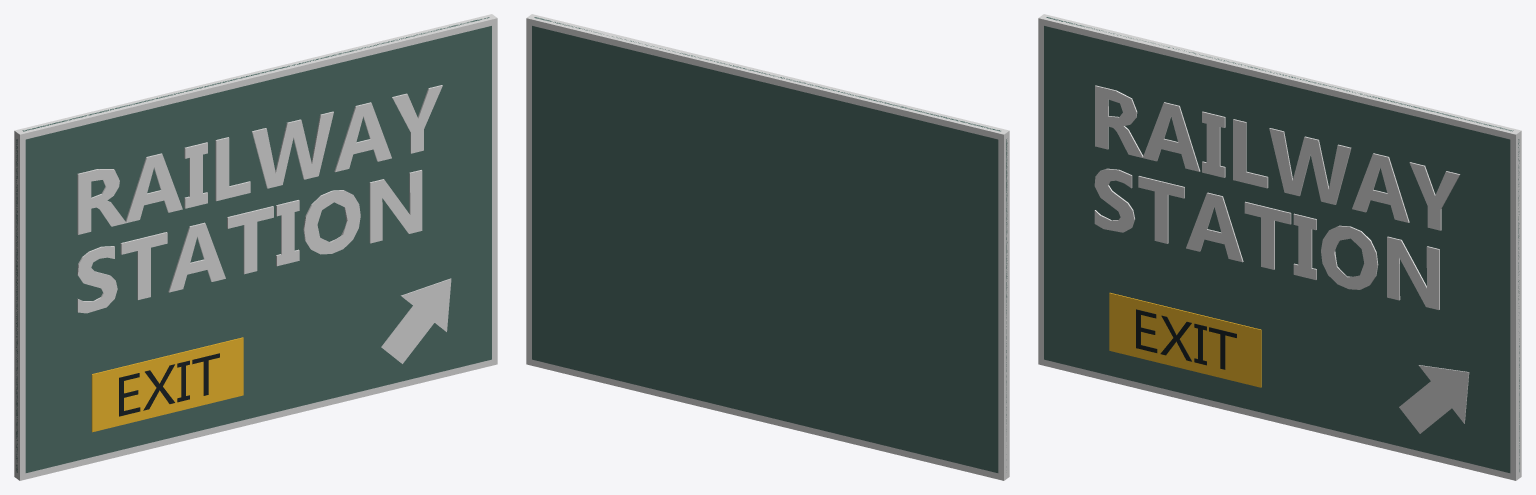
File: SM_FloorProps_RoadSign_39.fbx
3 renders of one model, left to right at view 1: azimuth 30°, elevation 25°; view 2: azimuth 150°, elevation 25°; view 3: azimuth 330°, elevation 25°, orthographic.
Visible parts, largest first — view 1: SM_FloorProps_RoadSign_39; view 2: SM_FloorProps_RoadSign_39; view 3: SM_FloorProps_RoadSign_39.
Boxes of the visible parts, x1,y1,x2,y2 form: SM_FloorProps_RoadSign_39: [14, 14, 497, 480]; SM_FloorProps_RoadSign_39: [526, 14, 1009, 480]; SM_FloorProps_RoadSign_39: [1038, 14, 1521, 480].
Bounding box in the file's own units: 2.33 × 1.61 × 0.0552.
